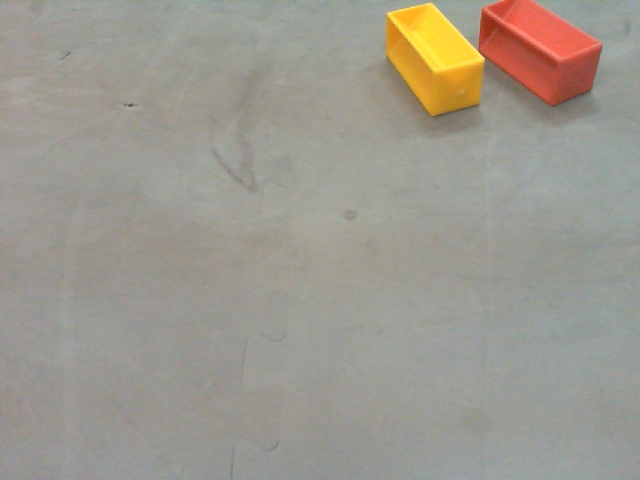RedSample: (478, 1, 603, 109)
YellowSample: (382, 5, 485, 117)
